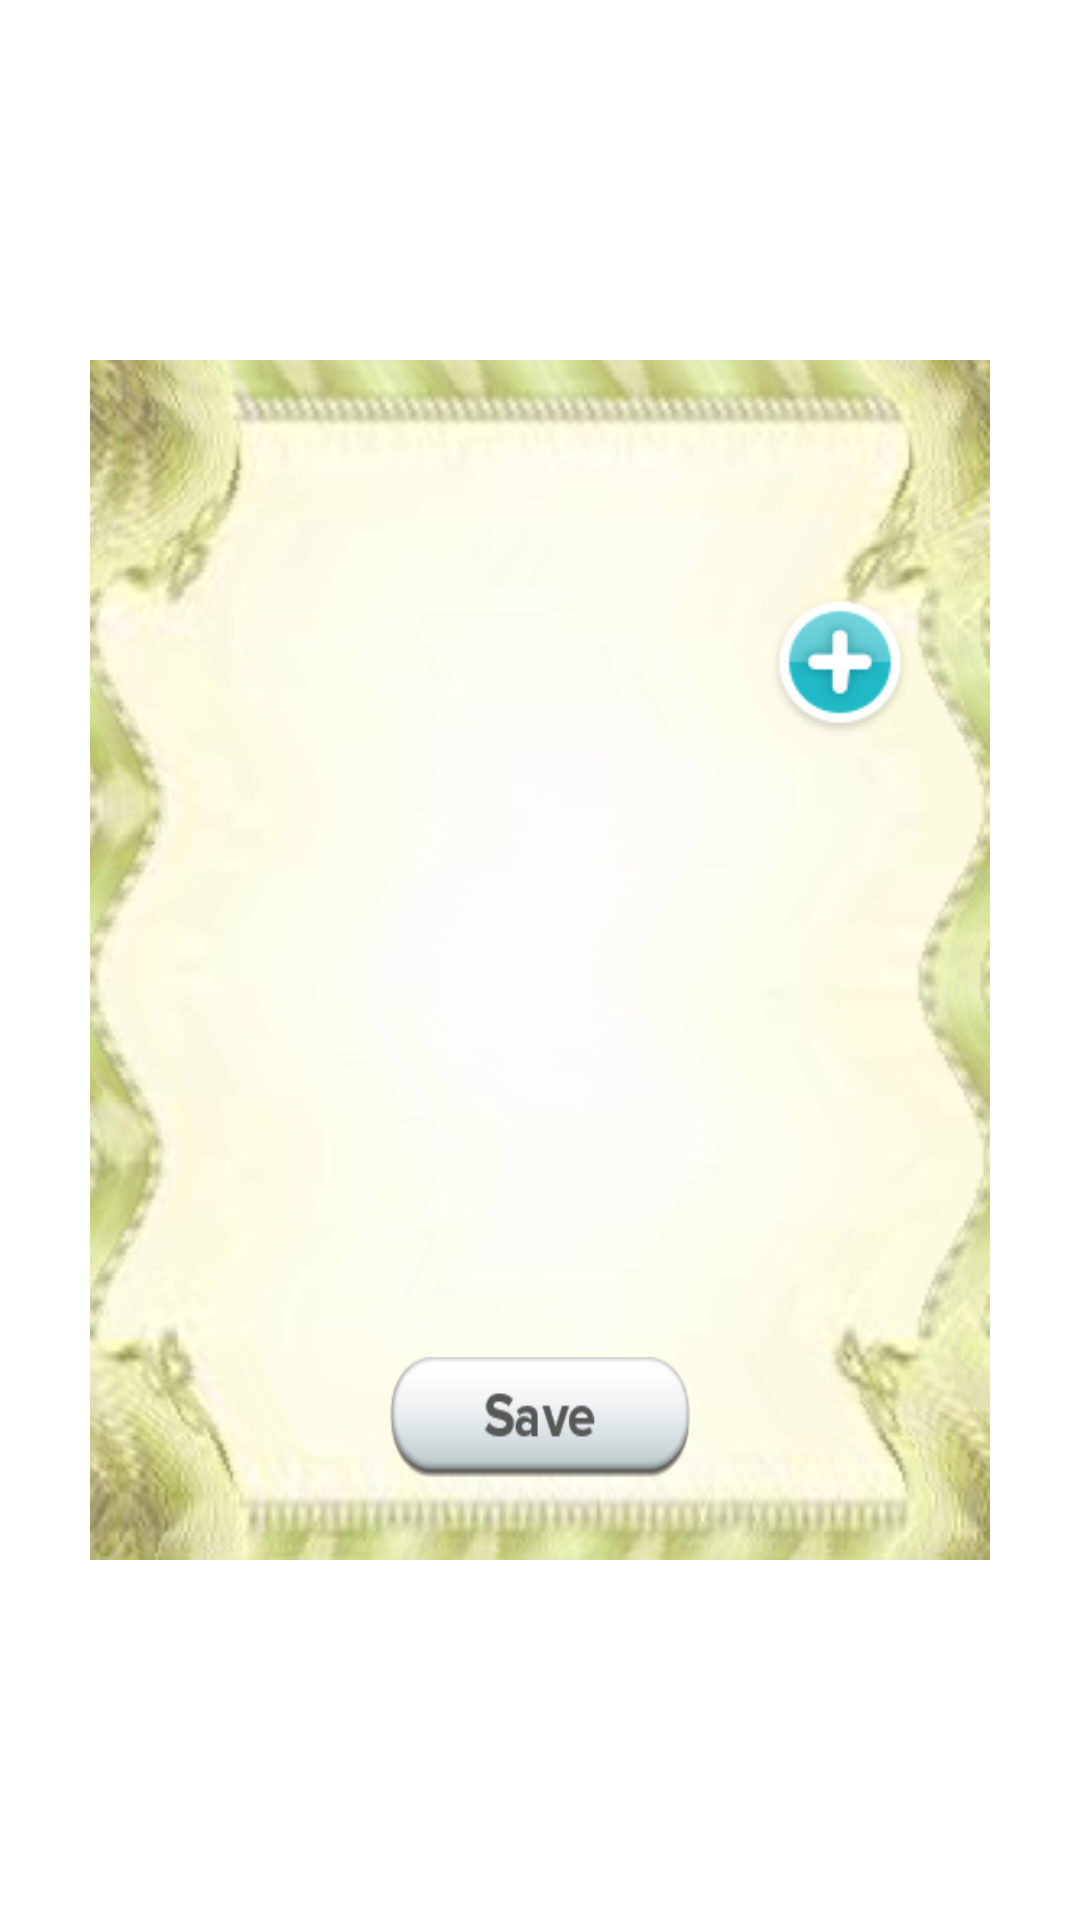

Icons on this 1080w x 1920h Android screen, each with its box as (x1, y1, x2, y2):
addevent: (785, 611, 901, 727)
